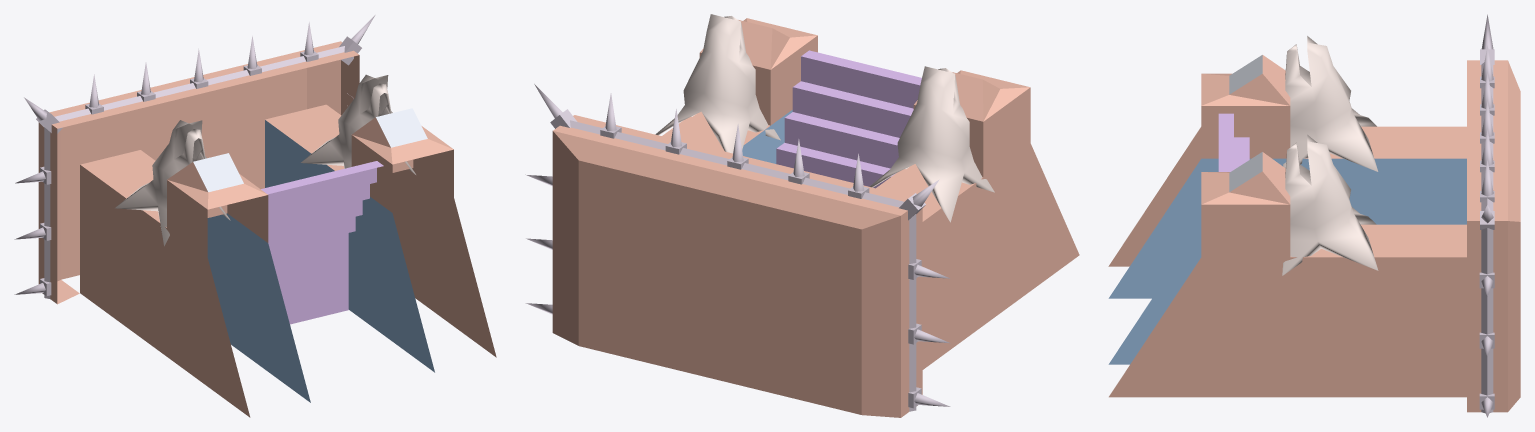
3 views of the same model, side by side, from view 1: azimuth 30°, elevation 25°; view 2: azimuth 150°, elevation 25°; view 3: azimuth 270°, elevation 25° (orthographic). The views are drawn at different scales.
Visible parts, largest first — view 1: Object16; view 2: Object16; view 3: Object16.
Part boxes in pixels (left/top/right/bottom): Object16: left=14, top=15, right=496, bottom=417; Object16: left=525, top=14, right=1079, bottom=417; Object16: left=1108, top=14, right=1520, bottom=417.
Size of the model in its own units: 59720 by 34087 by 52987.
